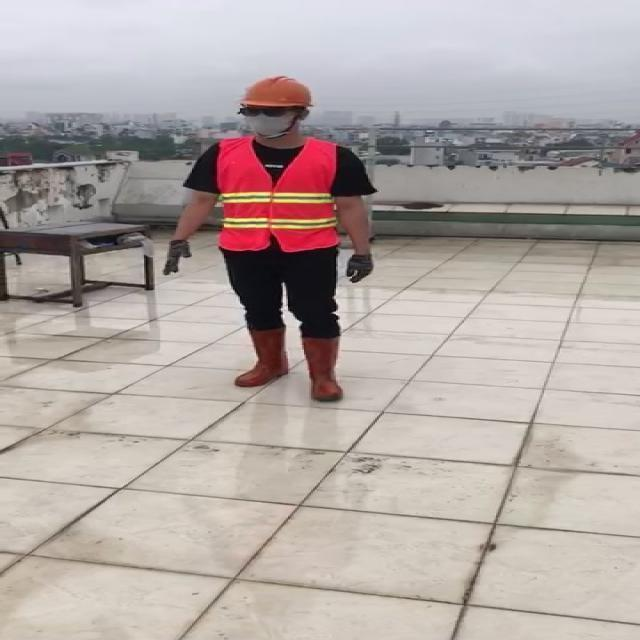gloves: (161, 239, 191, 276), (344, 253, 373, 284)
goggles: (237, 106, 306, 117)
helmet: (234, 75, 310, 112)
safety_vest: (216, 138, 341, 252)
